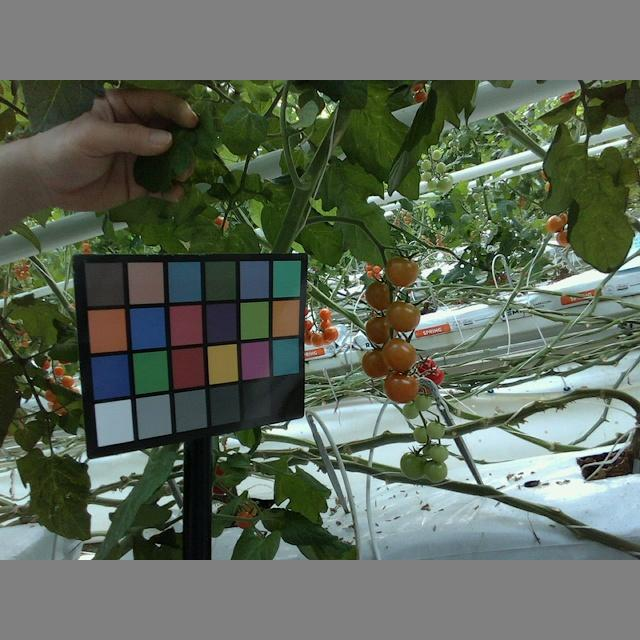green: (399, 450, 424, 482), (425, 461, 449, 487), (428, 442, 450, 461), (428, 418, 444, 438), (412, 425, 426, 441), (402, 404, 418, 418), (415, 394, 429, 409)
pink: (386, 255, 418, 289), (383, 303, 420, 330), (380, 339, 414, 368), (383, 371, 418, 399), (363, 282, 392, 310), (360, 317, 392, 342), (363, 350, 383, 376)
red: (416, 356, 443, 388)
